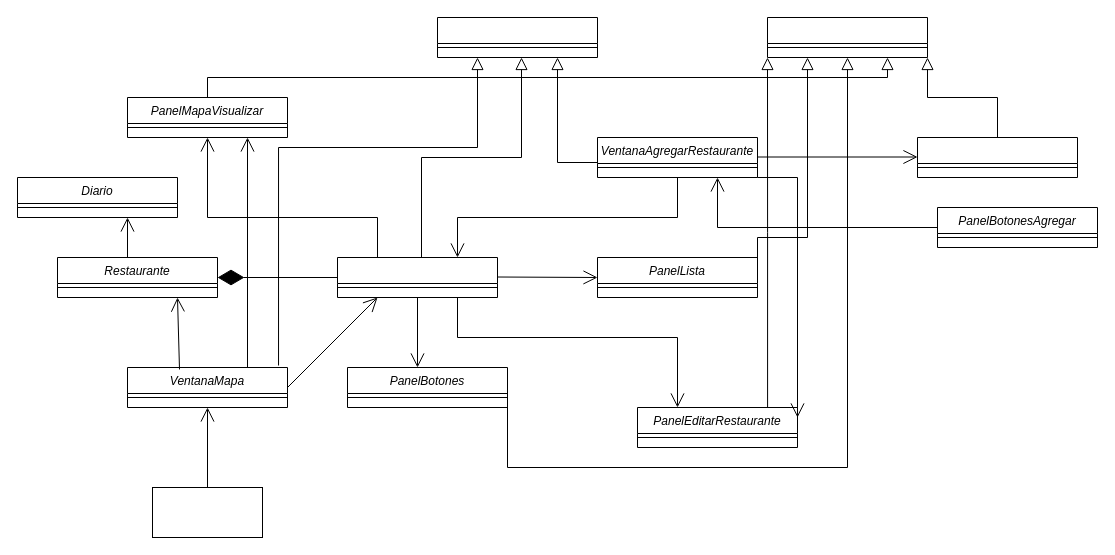
Some shapes in this 1115 by 555 pixel diagram are drawn without their labels. Here are the shapes that lost their labels. From the top down, the box of each, then its label:
(436, 16, 598, 58): JFrame
(766, 16, 928, 58): JPanel
(916, 136, 1078, 178): PanelMapaAgregar
(336, 256, 498, 298): VentanaPrincipal
(152, 486, 262, 538): «interface» ActionListener
